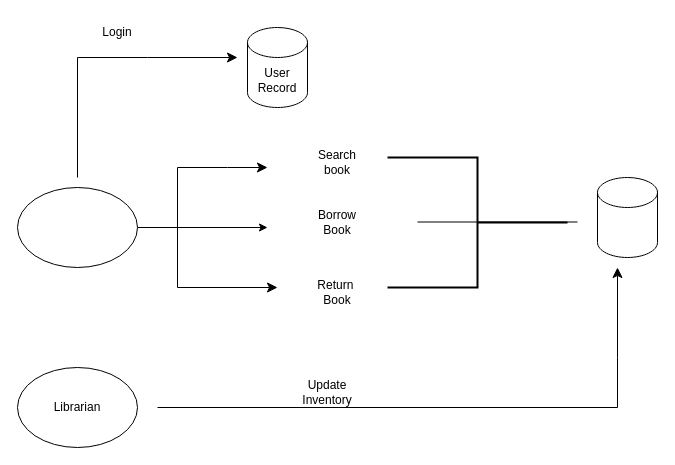
Some shapes in this 675 by 465 pixel diagram are drawn without their labels. The shapes that lost their labels are listed below. From the top down, each one's centre as x and y in pixels, then its label:
At [77,227]: "Student".
At [627,217]: "Book database".
